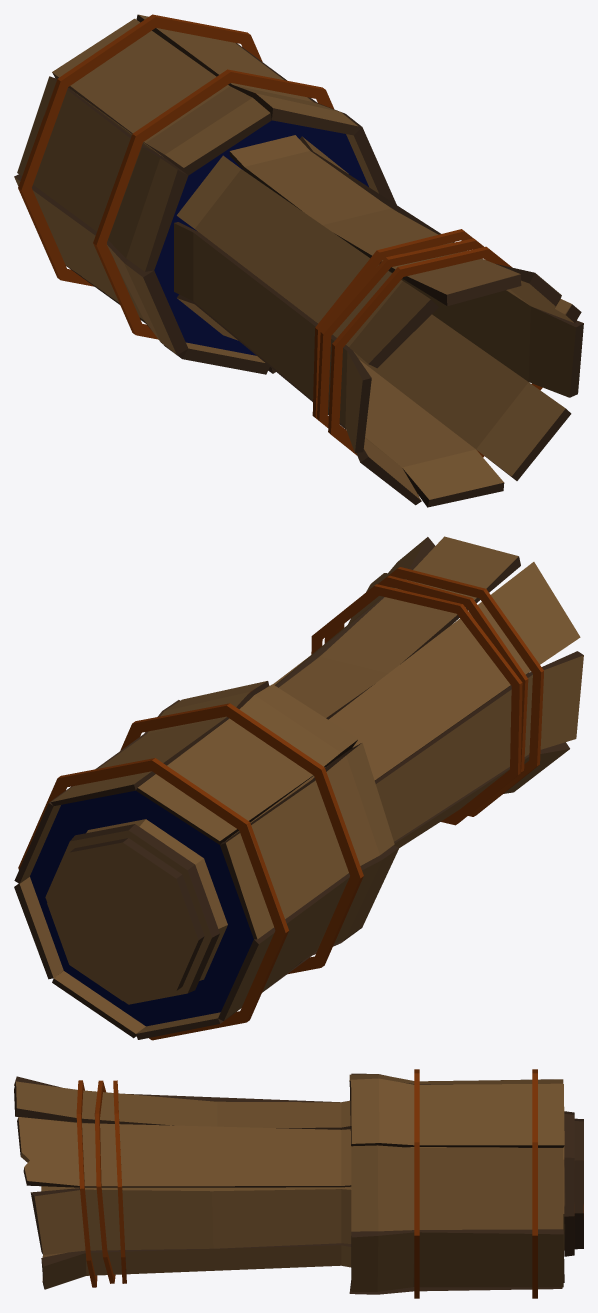
The picture shows the model from 3 angles, top to bottom: view 1: azimuth 30°, elevation 25°; view 2: azimuth 150°, elevation 25°; view 3: azimuth 270°, elevation 25°; orthographic projection. The views are drawn at different scales.
Parts seen in each view (by area): view 1: 柱体.004; view 2: 柱体.004; view 3: 柱体.004.
Boxes of the visible parts, x1,y1,x2,y2 form: 柱体.004: (14,14,583,507); 柱体.004: (14,536,583,1040); 柱体.004: (14,1069,583,1298).
Bounding box in the file's own units: 93.7 × 93.7 × 219.
